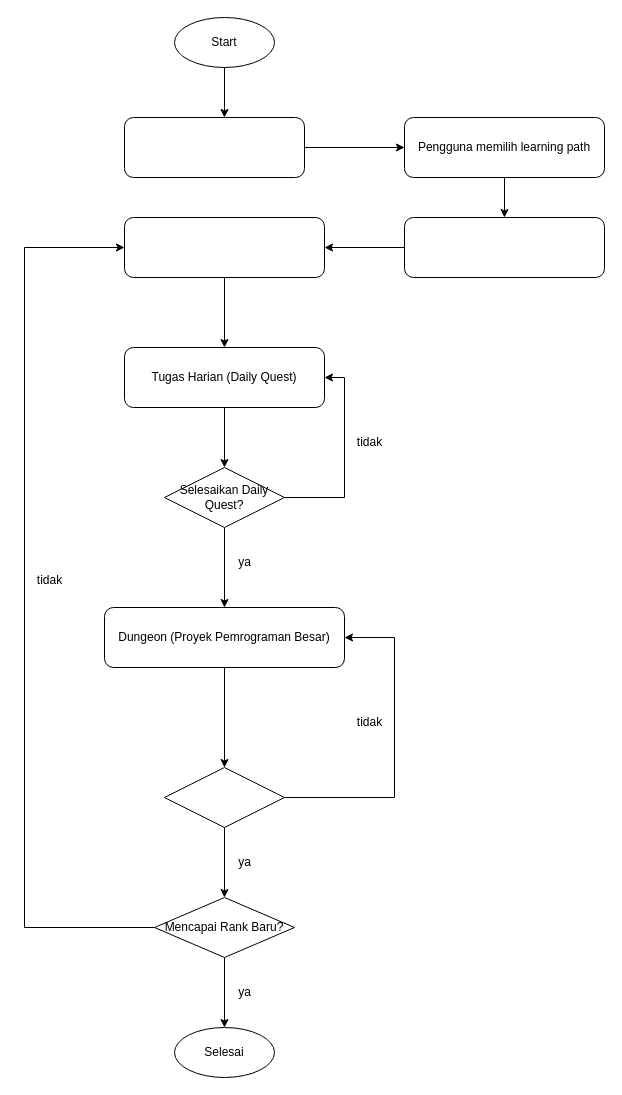
Some shapes in this 622 by 1095 pixel diagram are drawn without their labels. Here are the shapes that lost their labels. From the top down, the centre of each, then its label:
At (x=214, y=147): "Pendaftaran Pengguna".
At (x=224, y=247): "Learning sambil leveling".
At (x=504, y=247): "Pemilihan Class/Learning Path".
At (x=224, y=797): "Selesaikan Dungeon?".
